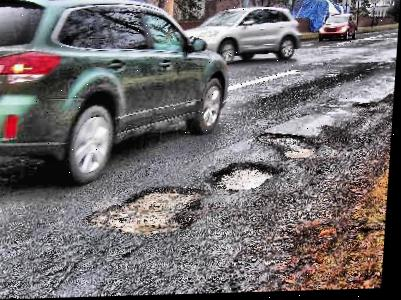pothole: (88, 183, 212, 240), (211, 160, 283, 195), (256, 130, 324, 163)
